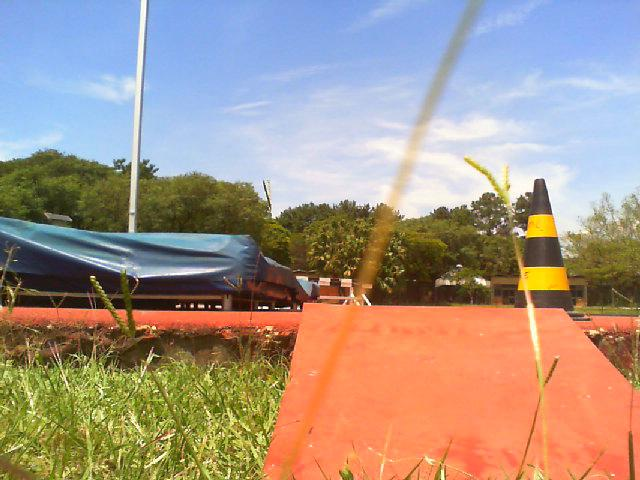0 cone: (514, 180, 591, 320)
